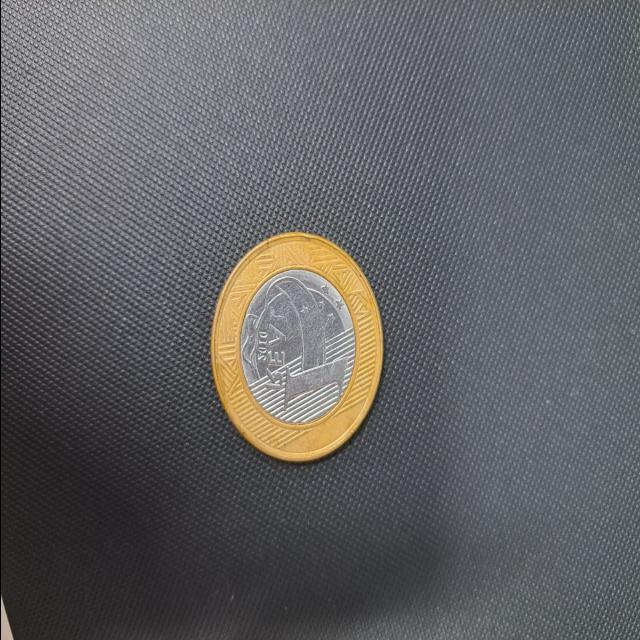1 real: (190, 203, 394, 501)
